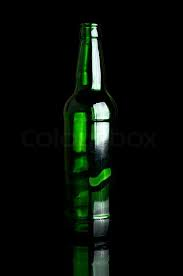beer: (63, 23, 110, 220)
